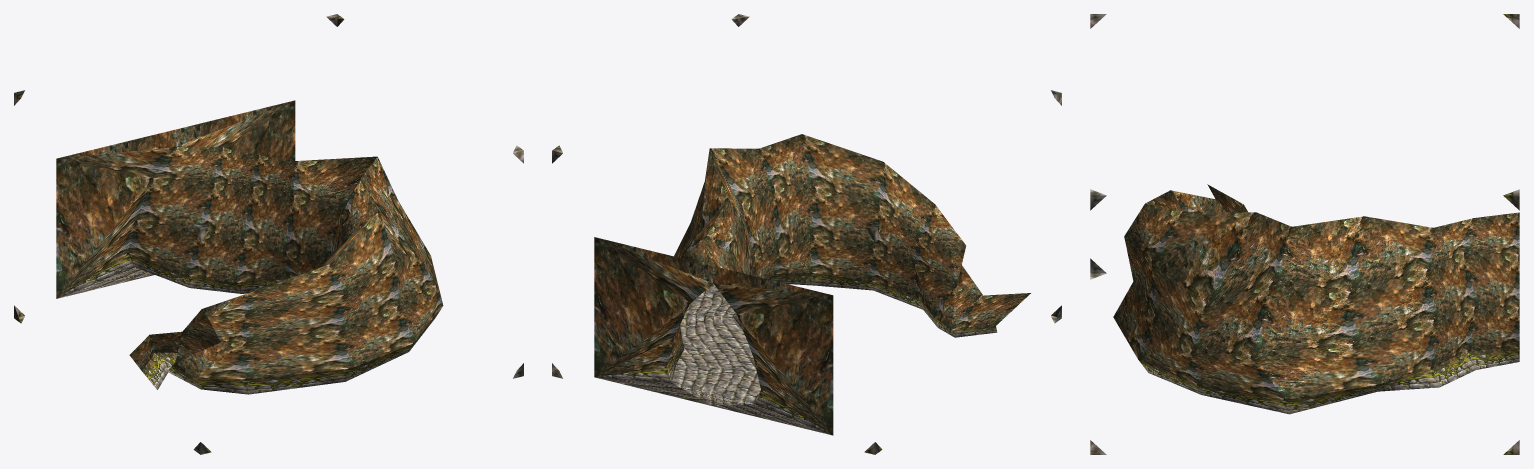
The model's file is lbc_1e.glb.
3 views of the same model, side by side, from view 1: azimuth 30°, elevation 25°; view 2: azimuth 150°, elevation 25°; view 3: azimuth 270°, elevation 25° (orthographic). The views are drawn at different scales.
Parts seen in each view (by area): view 1: lbc_1e; view 2: lbc_1e; view 3: lbc_1e.
Part boxes in pixels (x1,y1,x2,y2): lbc_1e: (14,14,523,454); lbc_1e: (552,14,1061,454); lbc_1e: (1090,14,1519,454).
Bounding box in the file's own units: 15.95 × 10 × 15.
Materials: 4 (4 with a texture image).
